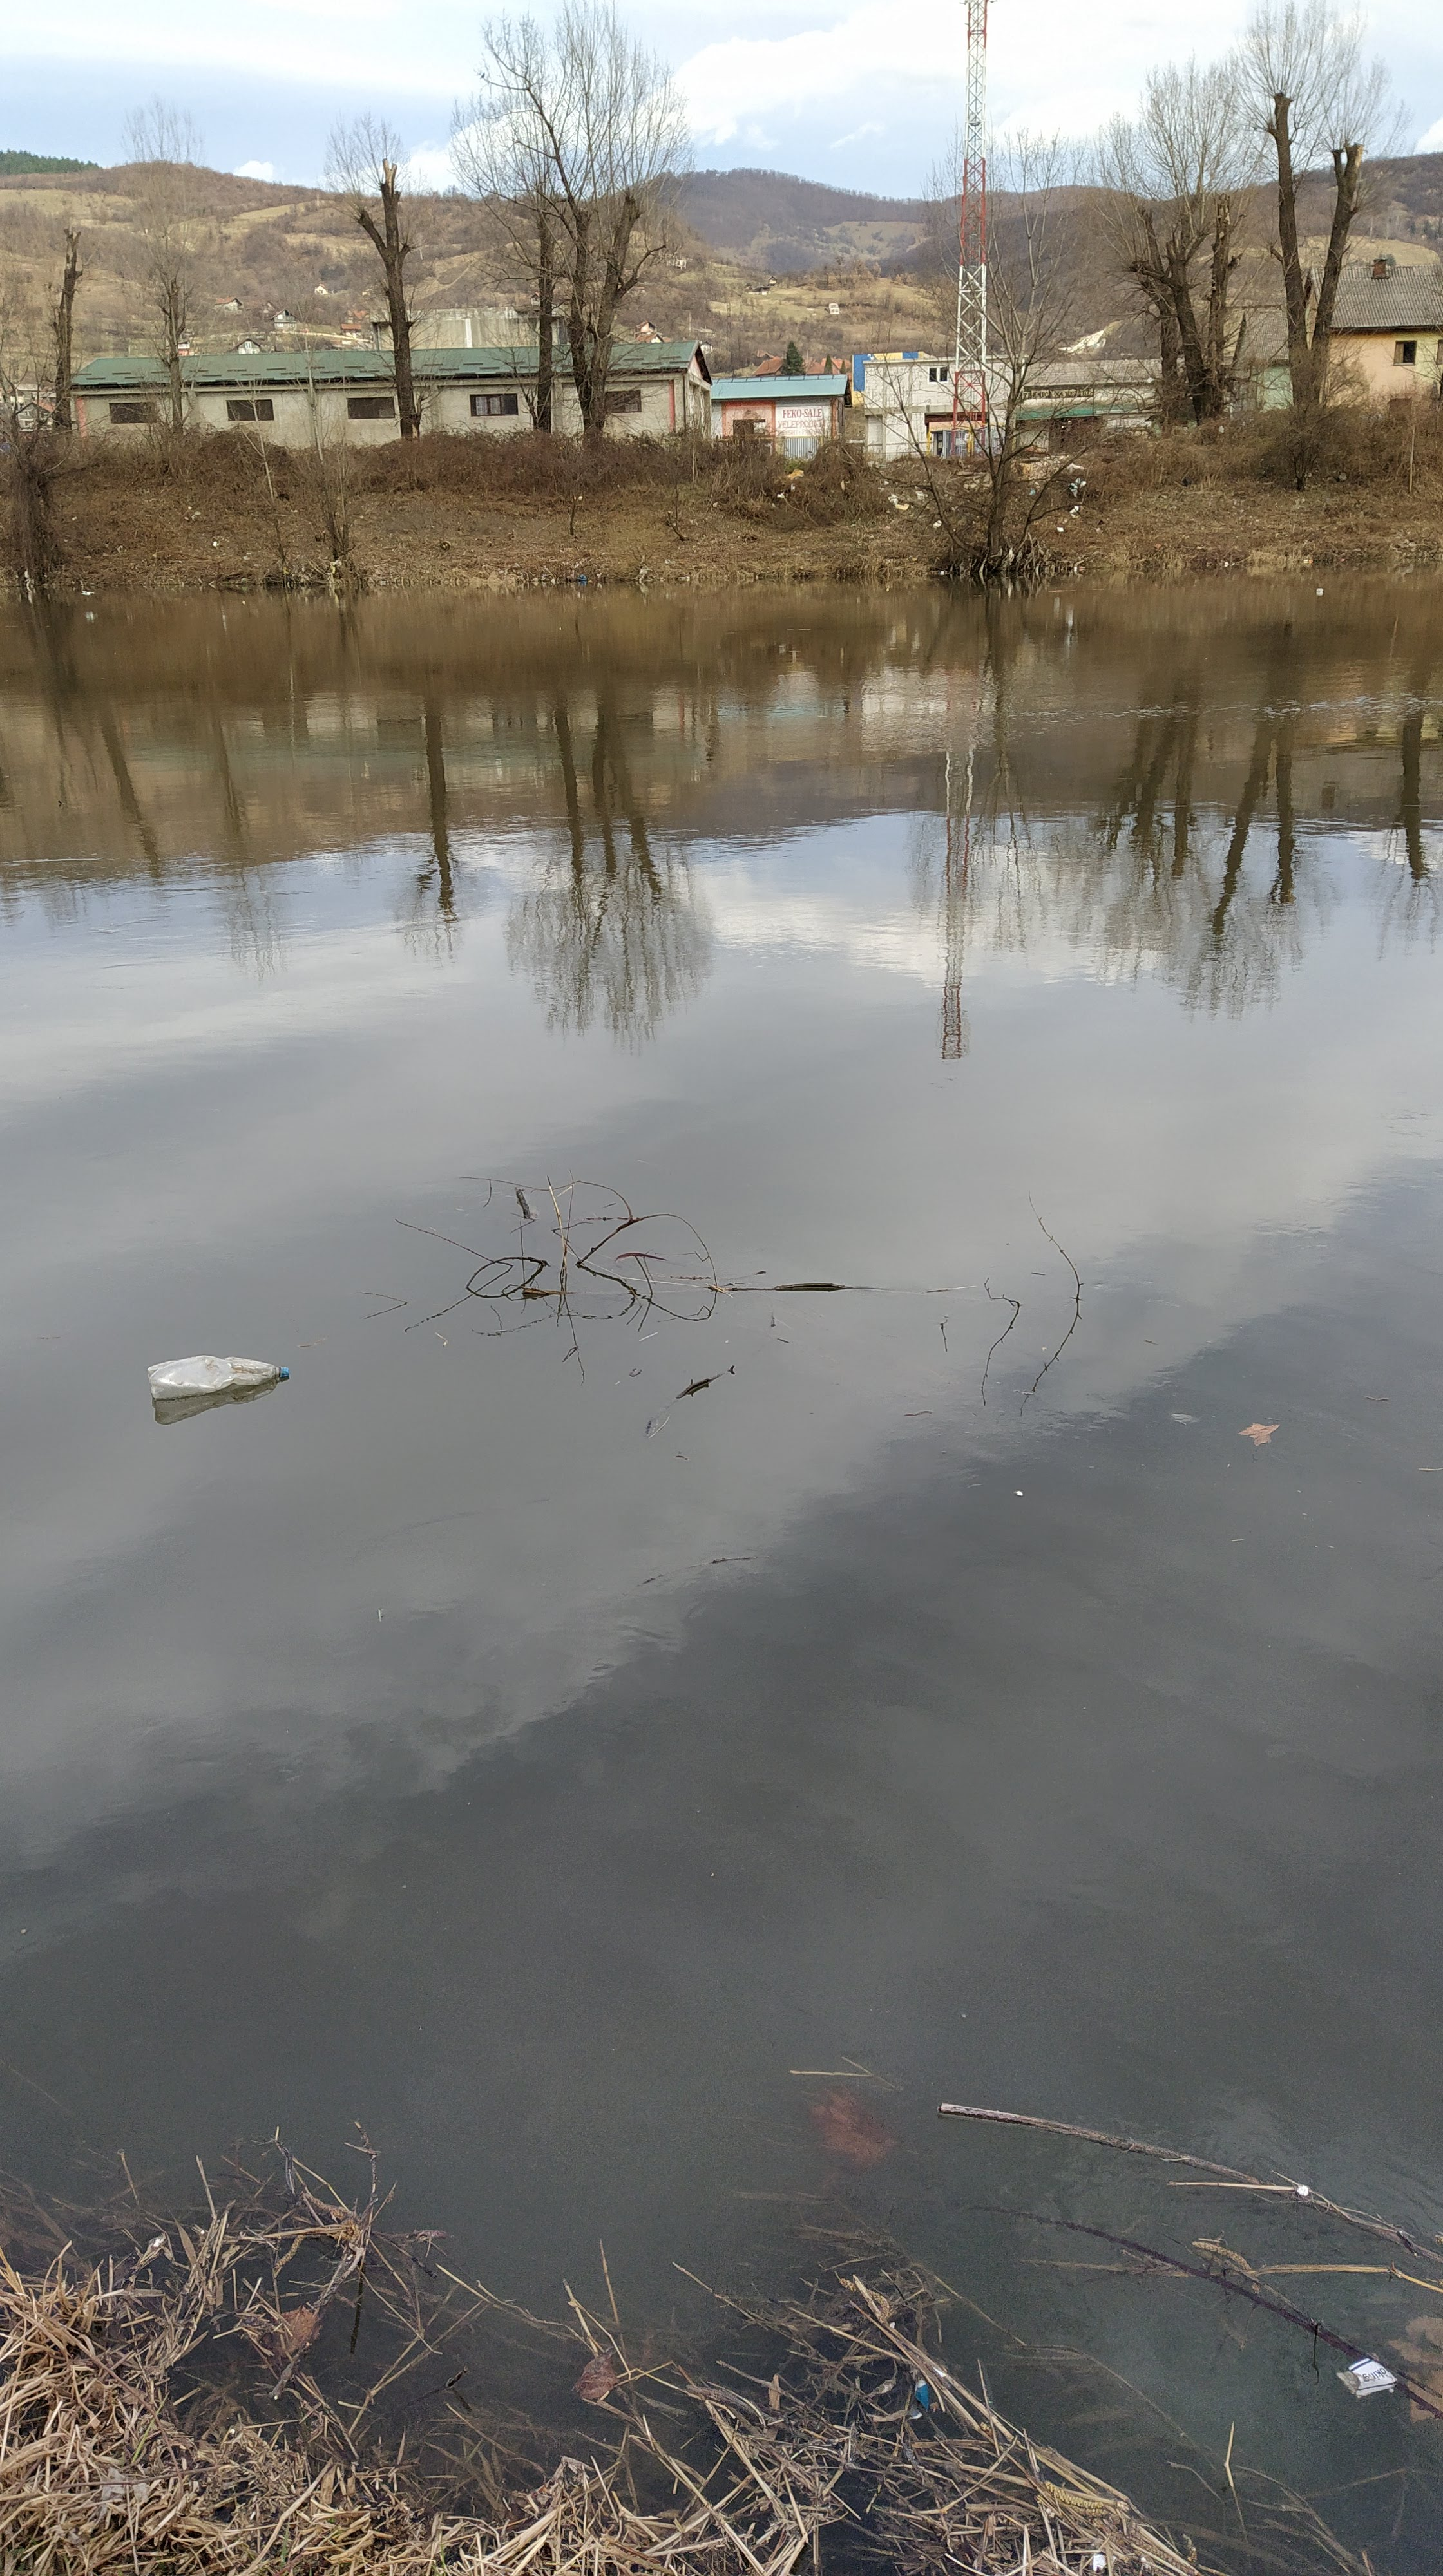Plastic Bottle: (147, 1355, 290, 1399), (1317, 587, 1323, 594)
